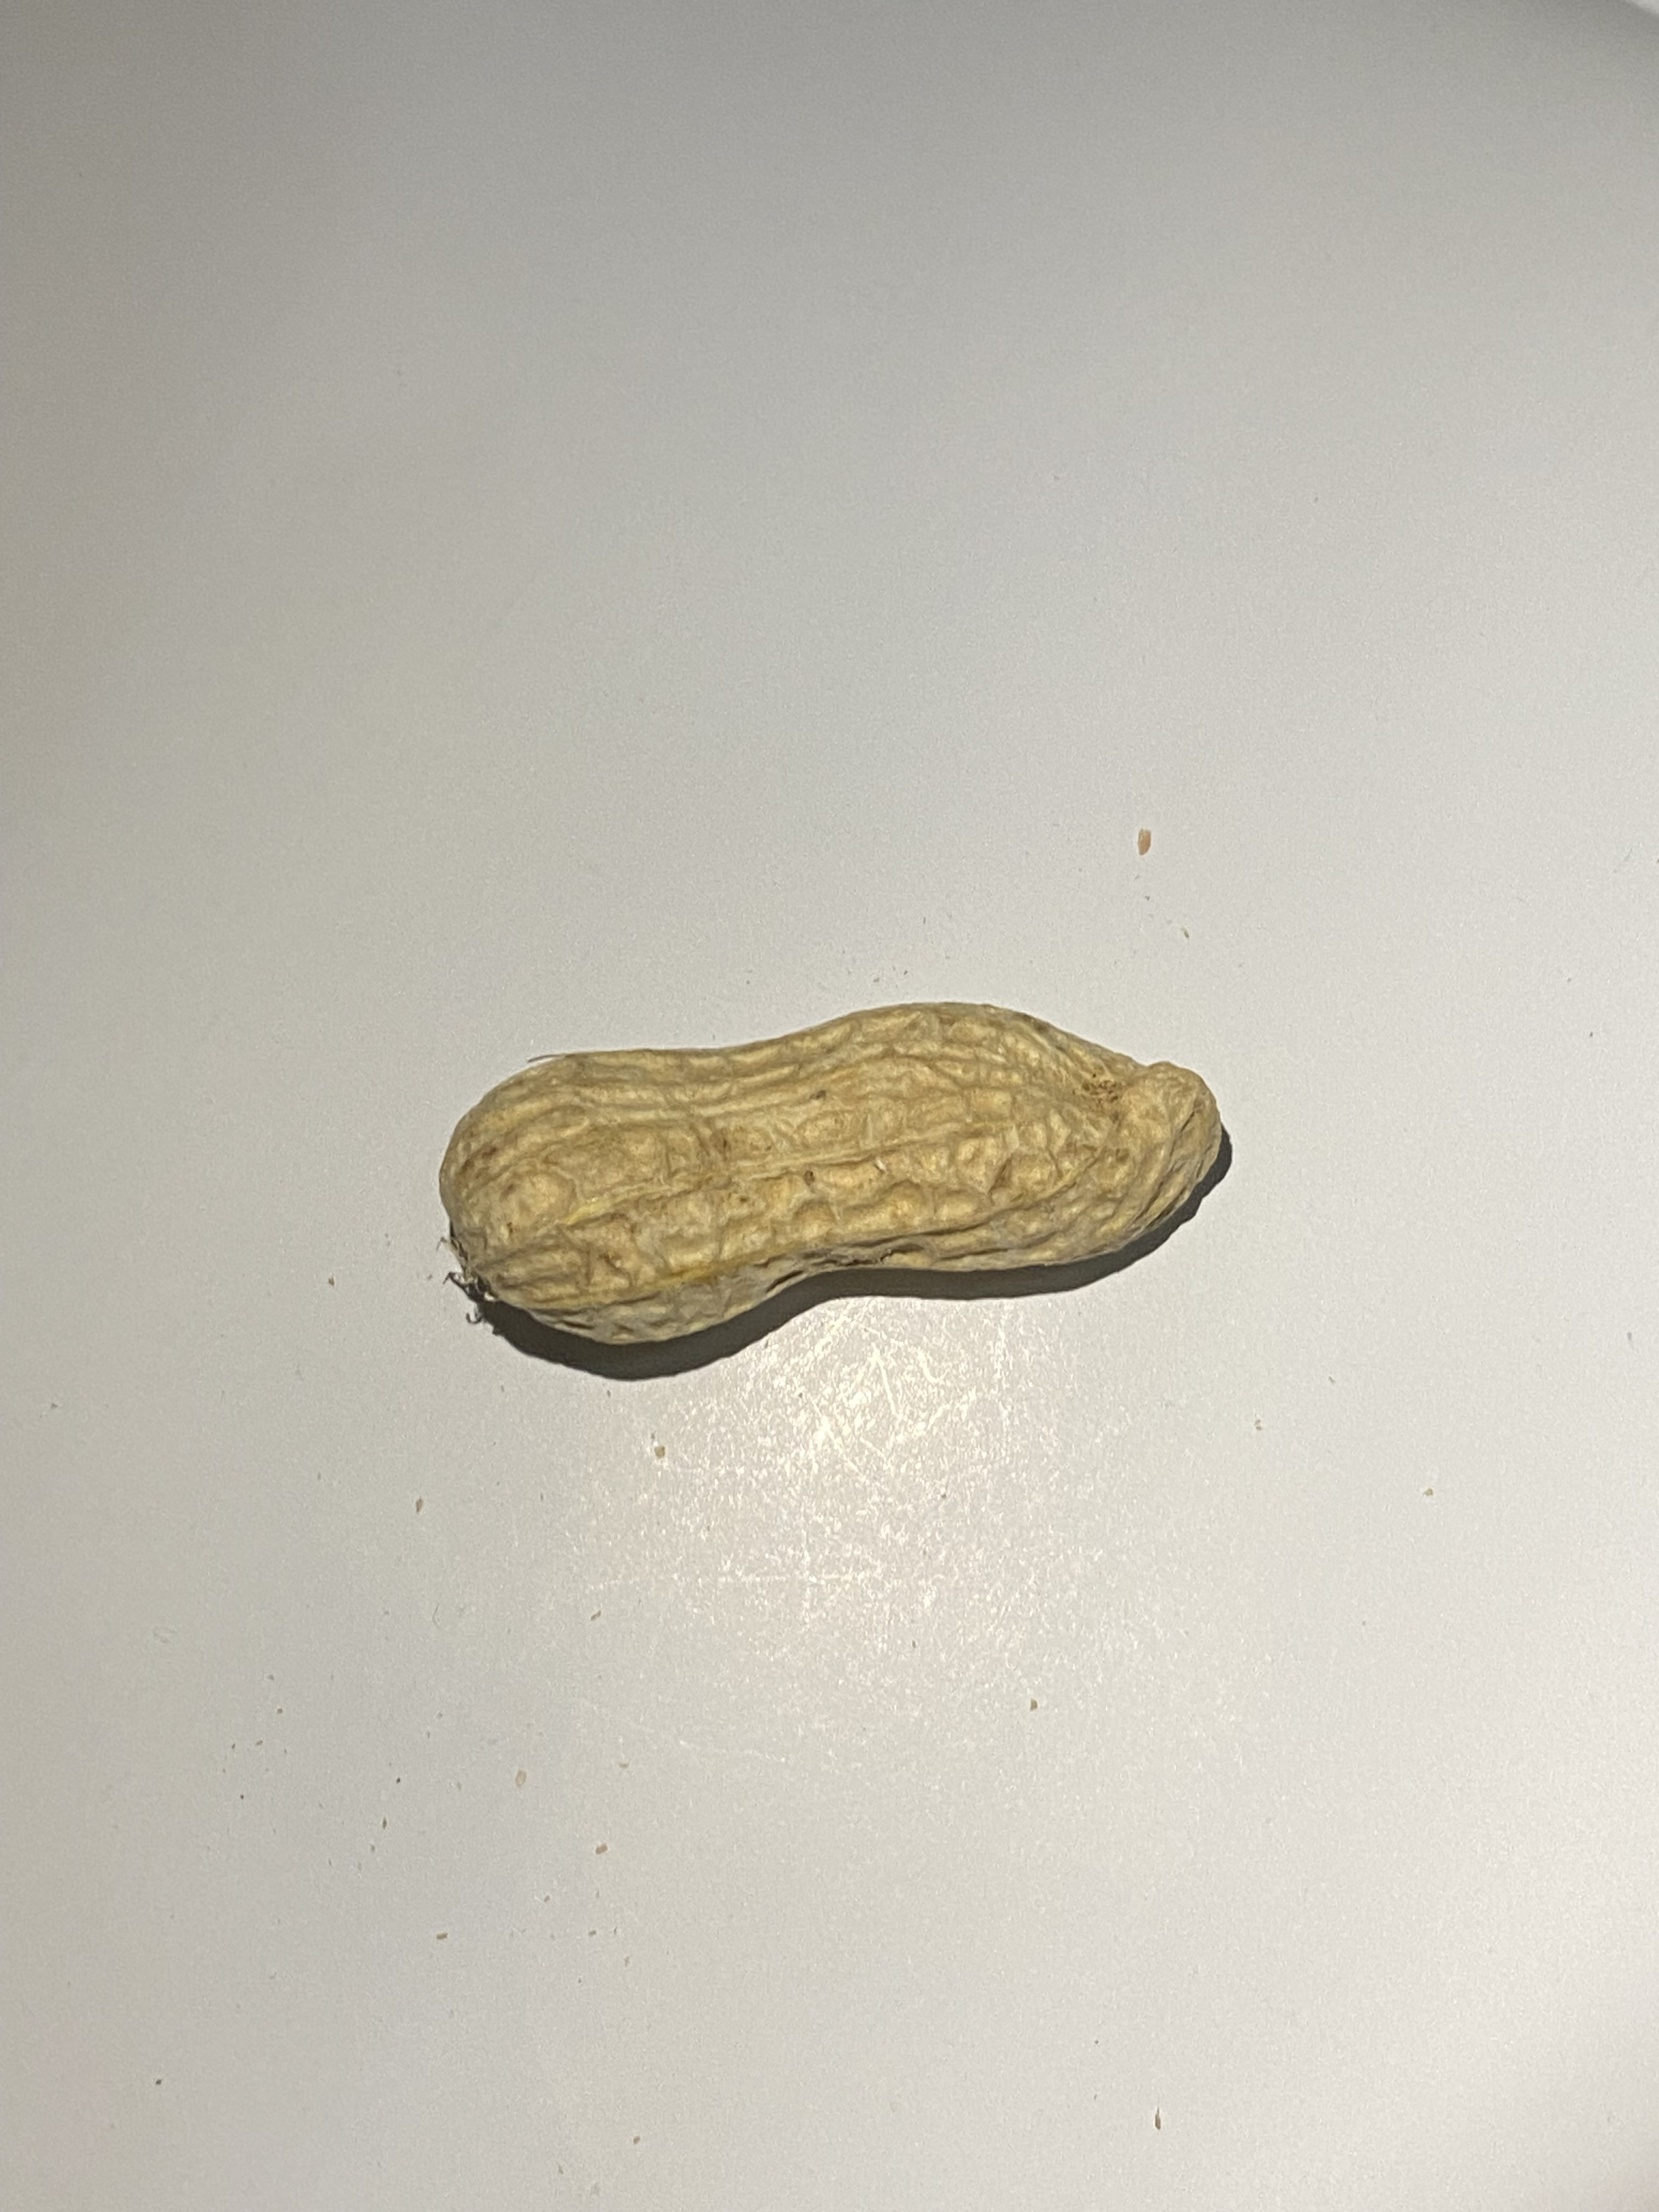kacang2: (427, 996, 1246, 1346)
